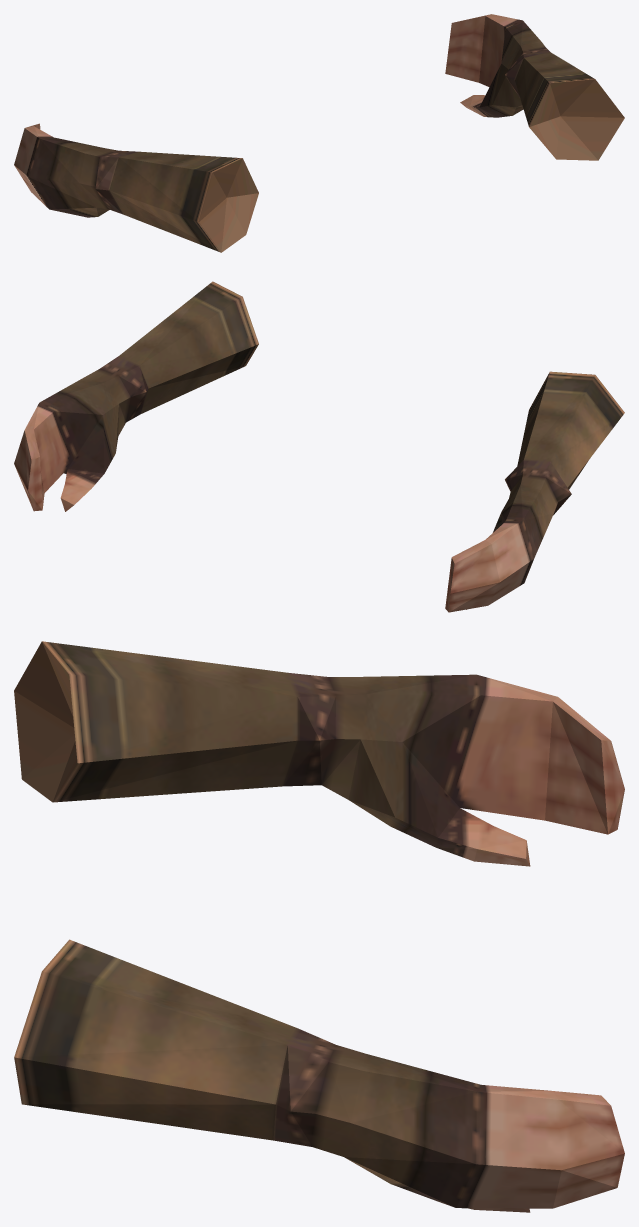
The model's file is warrior_glove_female_35000.obj.
The picture shows the model from 3 angles, top to bottom: view 1: azimuth 30°, elevation 25°; view 2: azimuth 150°, elevation 25°; view 3: azimuth 270°, elevation 25°; orthographic projection. The views are drawn at different scales.
Visible parts, largest first — view 1: warrior_glove_female_35000; view 2: warrior_glove_female_35000; view 3: warrior_glove_female_35000.
Boxes of the visible parts, x1,y1,x2,y2 form: warrior_glove_female_35000: [14, 14, 624, 252]; warrior_glove_female_35000: [14, 281, 624, 612]; warrior_glove_female_35000: [14, 641, 624, 1212].
Bounding box in the file's own units: 28.64 × 7.14 × 16.95.
Materials: 1 (1 with a texture image).
